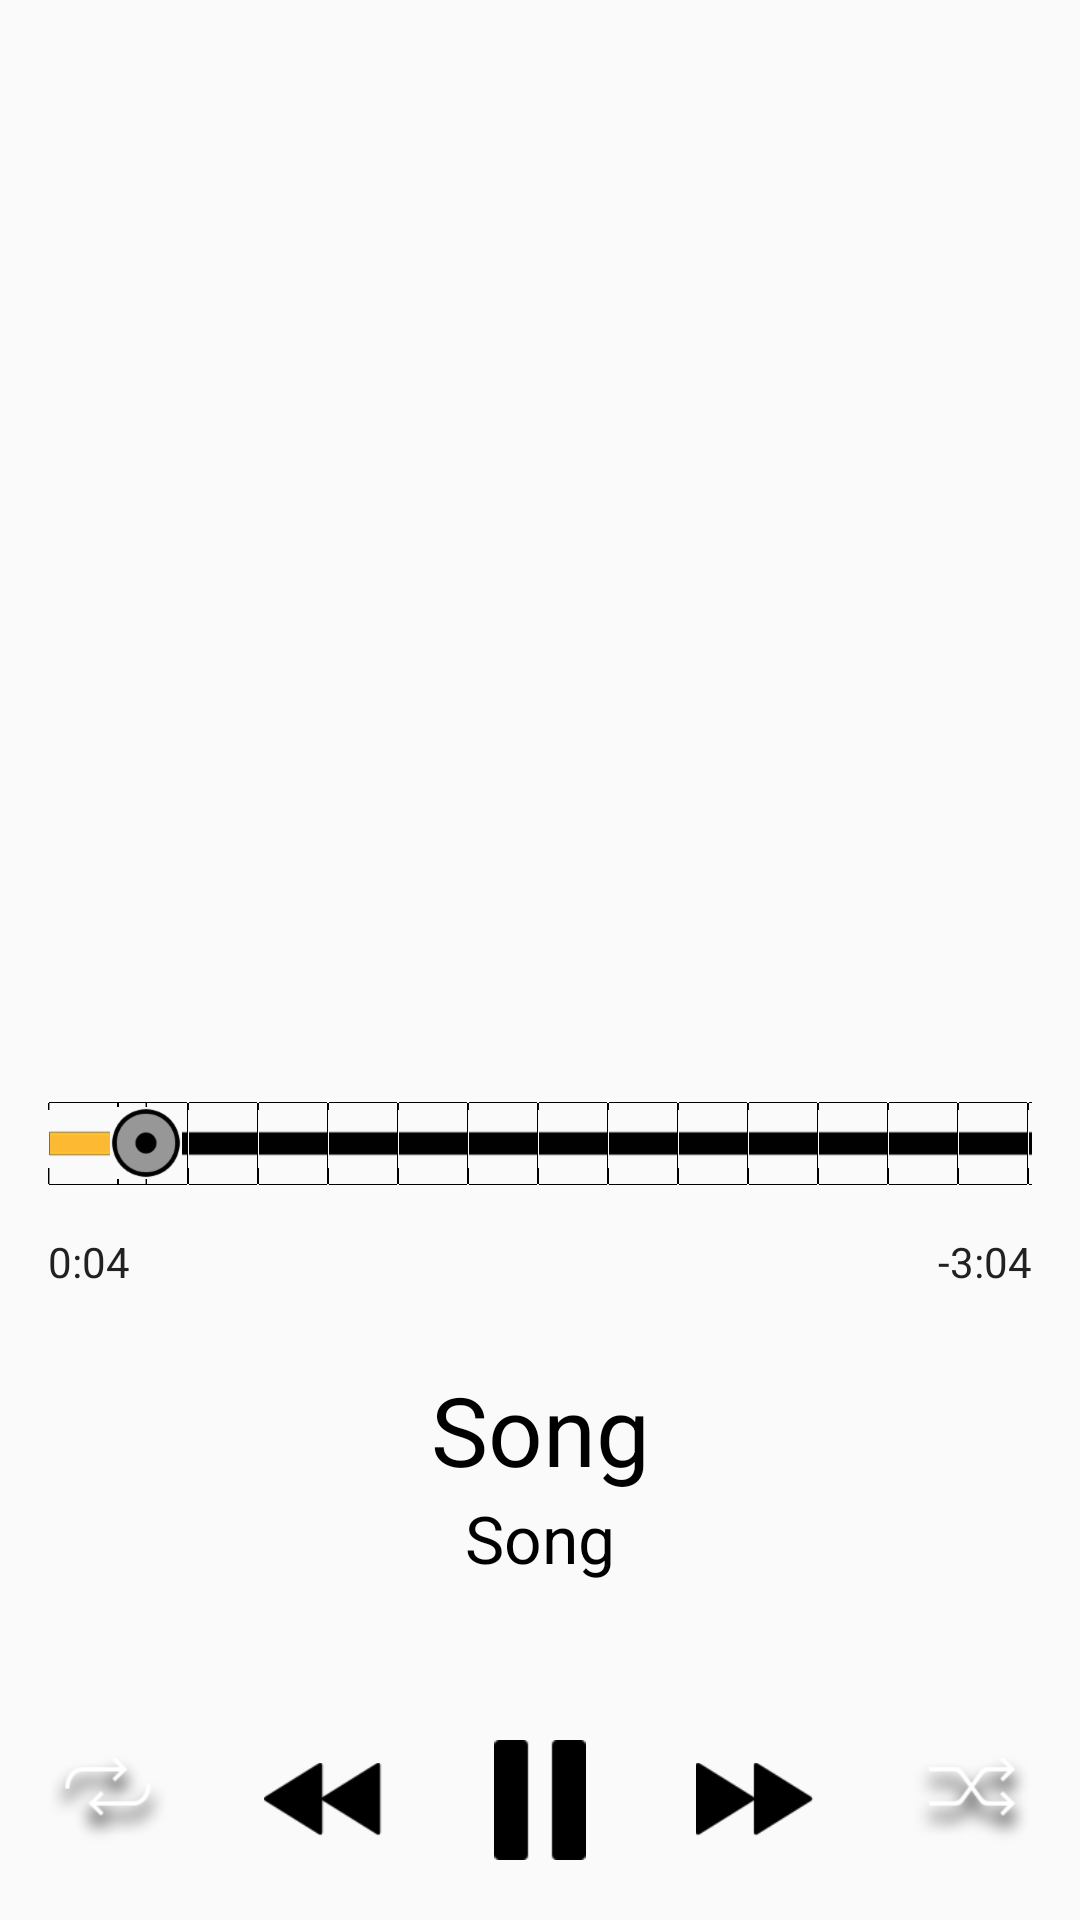

Named icons in this screenshot (1080 × 1920) and their centers, [x,y]:
forward: [754,1799]
pause: [540,1800]
repeat: [108,1801]
rewind: [323,1799]
